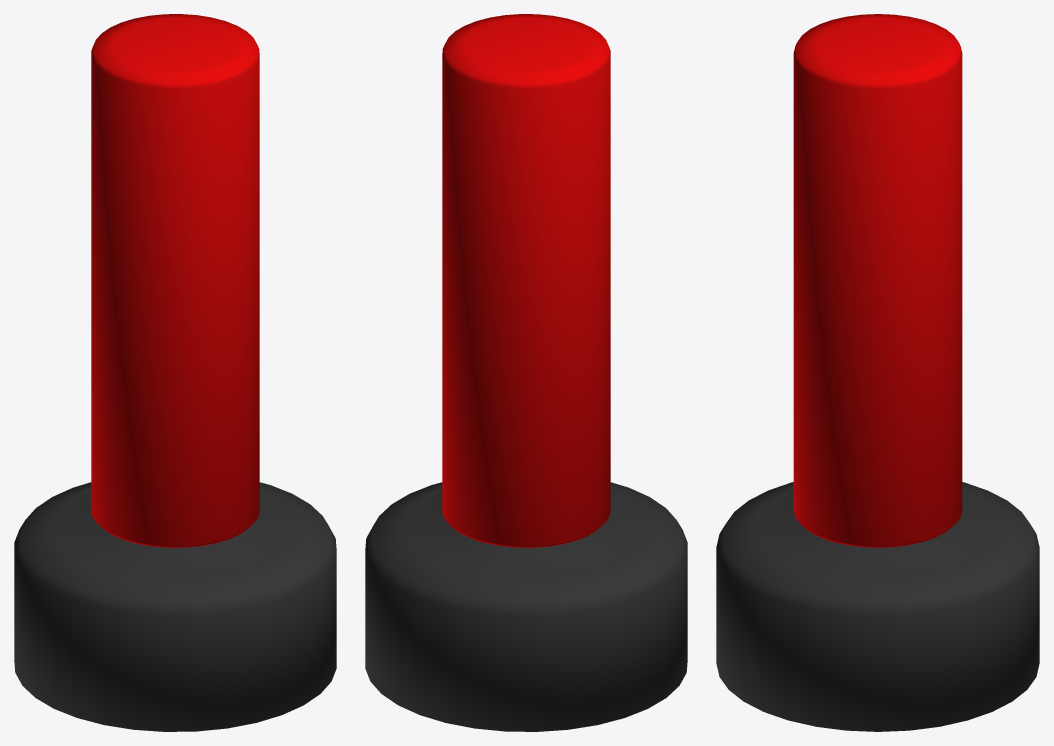
The model's file is Punching_Bag_1.fbx.
The picture shows the model from 3 angles, left to right: view 1: azimuth 30°, elevation 25°; view 2: azimuth 150°, elevation 25°; view 3: azimuth 270°, elevation 25°; orthographic projection.
Visible parts, largest first — view 1: Punching Bag 1; view 2: Punching Bag 1; view 3: Punching Bag 1.
Boxes of the visible parts, bbox=[...] form: Punching Bag 1: bbox=[14, 14, 336, 731]; Punching Bag 1: bbox=[365, 14, 687, 731]; Punching Bag 1: bbox=[716, 14, 1039, 731].
Size of the model in its own units: 118 by 250 by 118.
